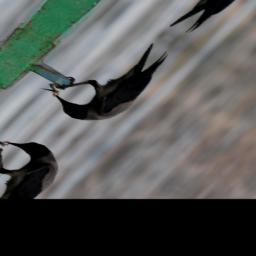Crow: (39, 26, 183, 134)
